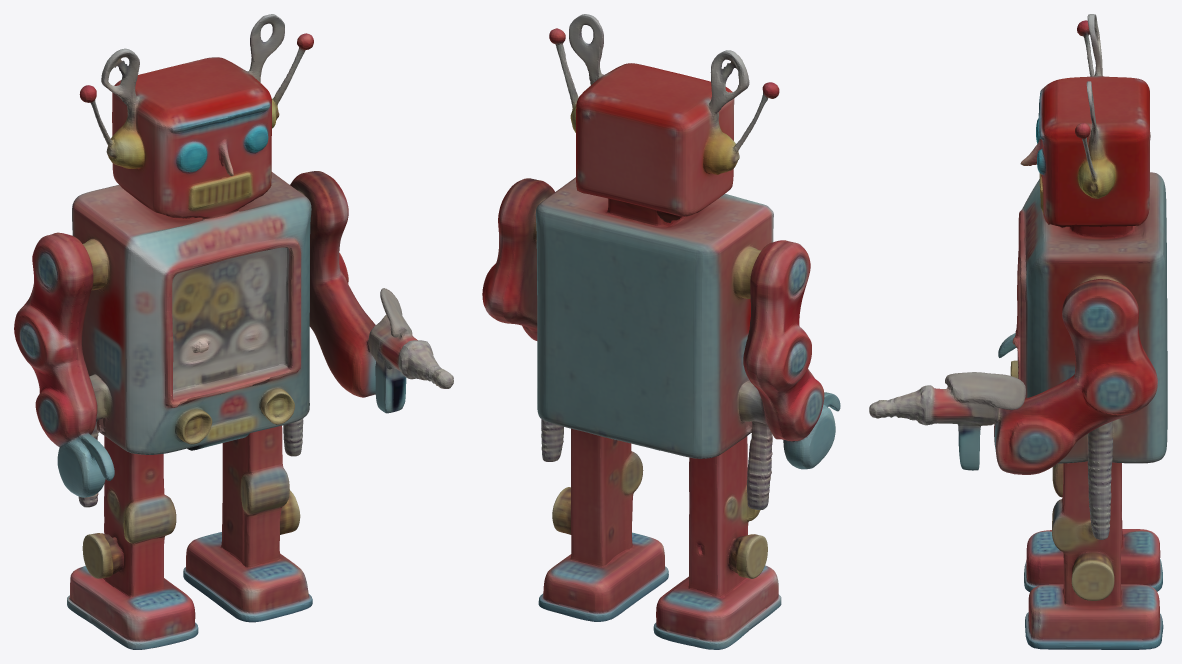
3 renders of one model, left to right at view 1: azimuth 30°, elevation 25°; view 2: azimuth 150°, elevation 25°; view 3: azimuth 270°, elevation 25°, orthographic. The views are drawn at different scales.
Parts seen in each view (by area): view 1: geometry_0; view 2: geometry_0; view 3: geometry_0.
Part boxes in pixels (x1,y1,x2,y2): geometry_0: [14, 14, 453, 649]; geometry_0: [482, 14, 840, 649]; geometry_0: [869, 14, 1167, 649].
Bounding box in the file's own units: 0.5886 × 1 × 0.4844.
